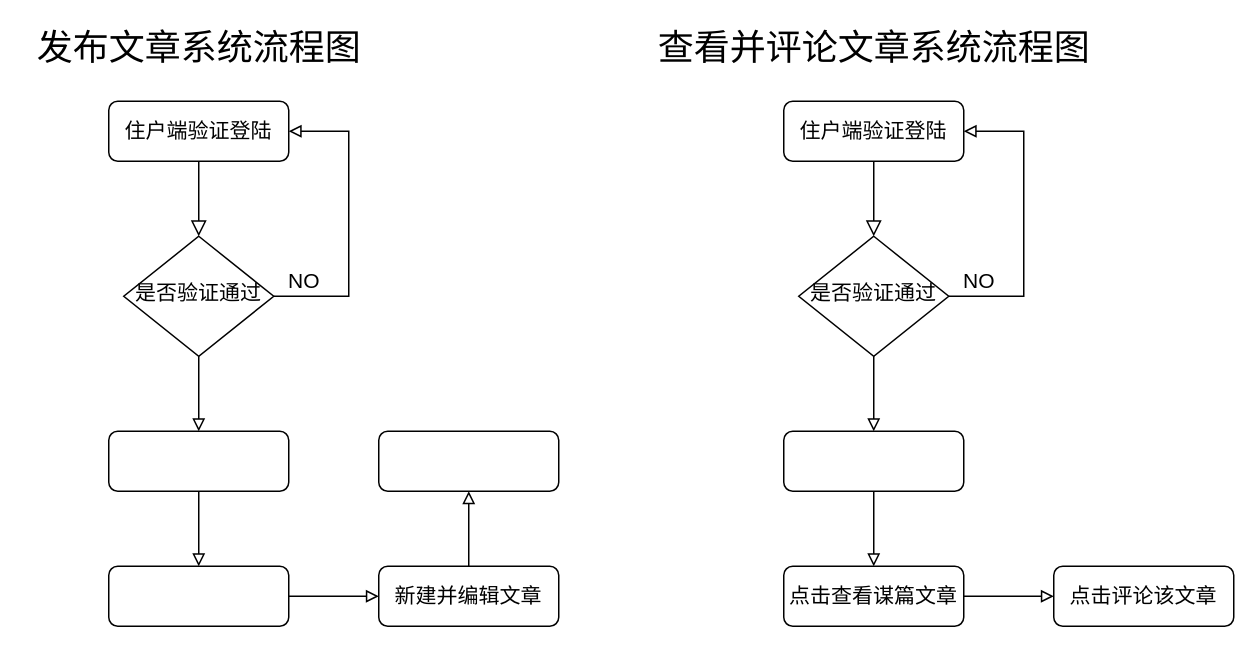
The diagram is 1260 pixels wide and 653 high, and some of its shapes have lost their labels. Here are the shapes that lost their labels. From the top down, the box of each, then its label:
(107, 430, 289, 491): 进入个人中心模块
(377, 430, 559, 491): 将文章内容存入数据库
(782, 430, 964, 491): 进入社区文章模块
(107, 565, 289, 626): 进入我的文章模块
